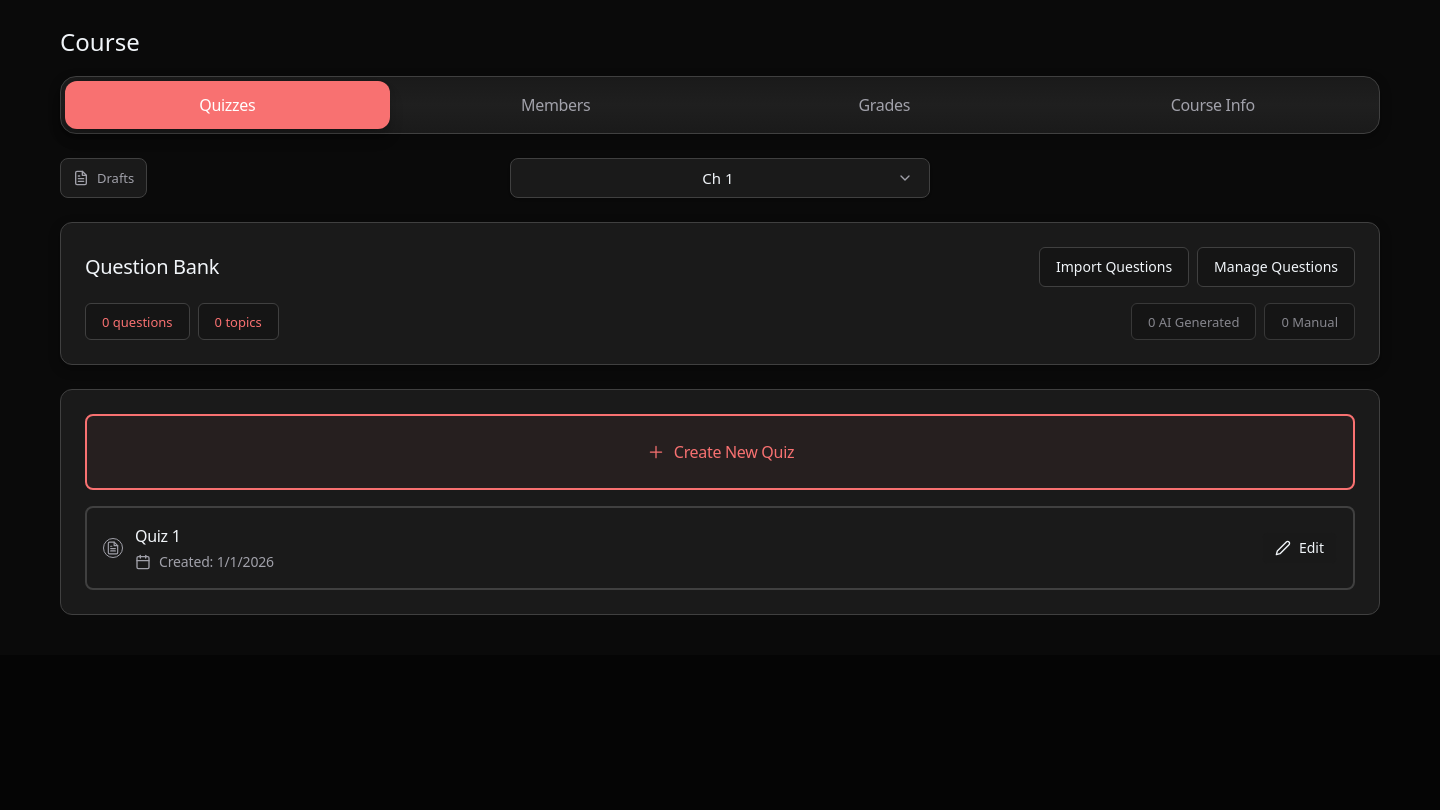
Test case: Instructor Quiz Page › chapter selector: selecting a different chapter updates visible quizzes and refetches chapter questions
The image size is (1440, 810).
Check: the text "Quiz 1" is shown, box [135,525,180,547]
Click the button "Ch 1": (720, 178) [510,158,930,198]
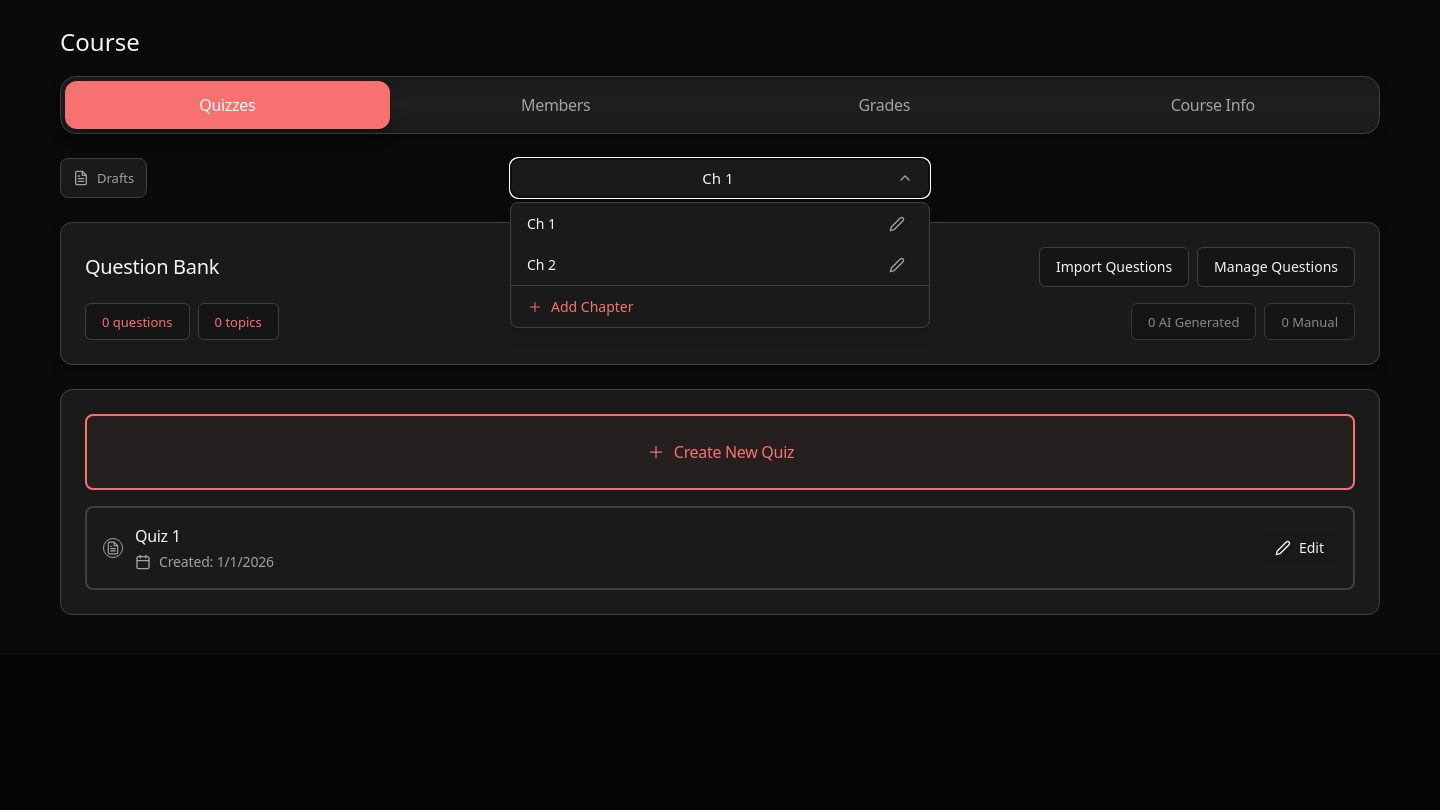
Click the button "Ch 2": (542, 264) [527,254,873,275]
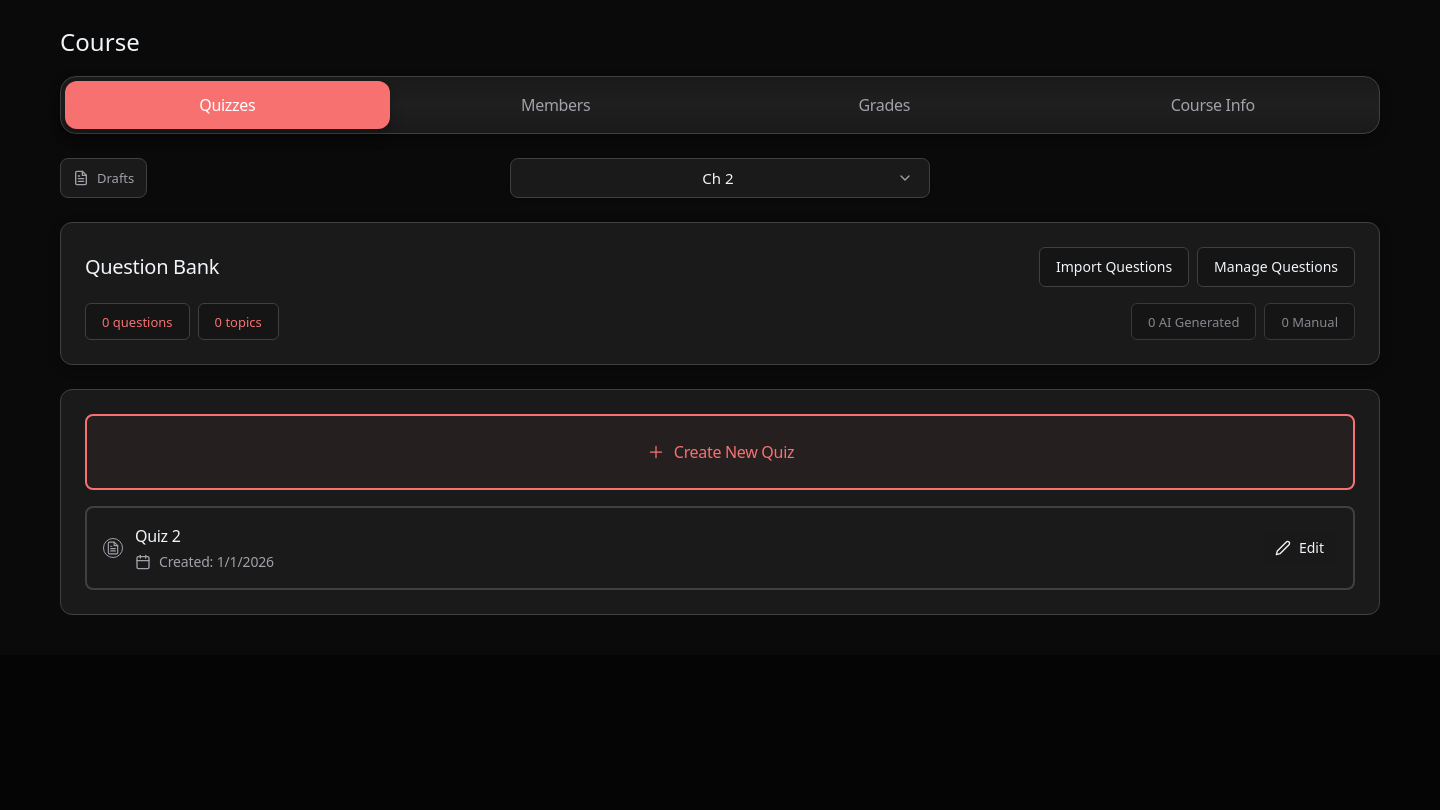
Check: the text "Quiz 2" is shown, box [135,525,180,547]
